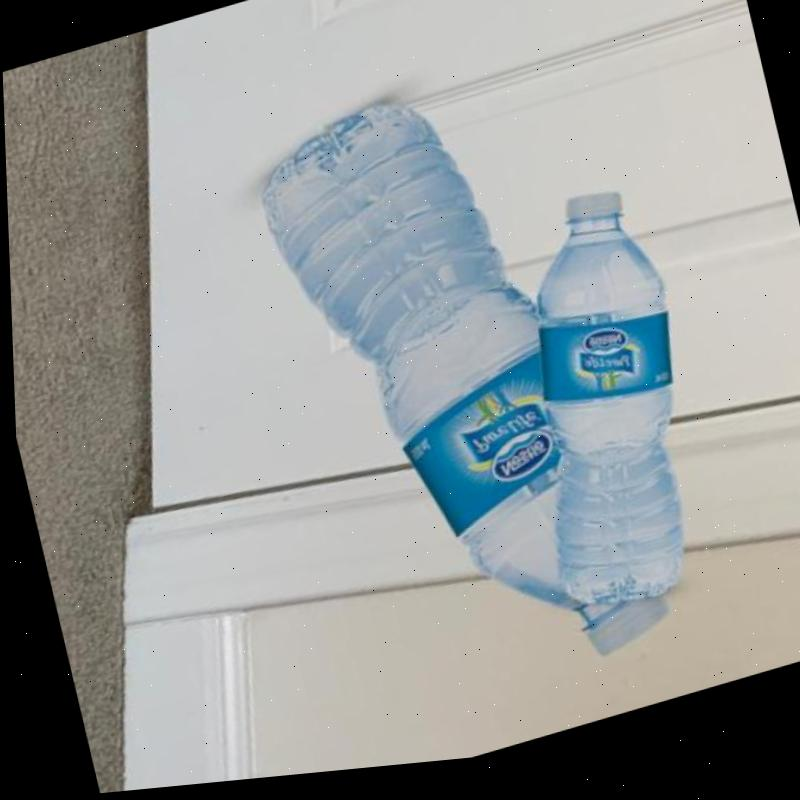botella: (249, 58, 675, 735), (475, 186, 731, 640)
